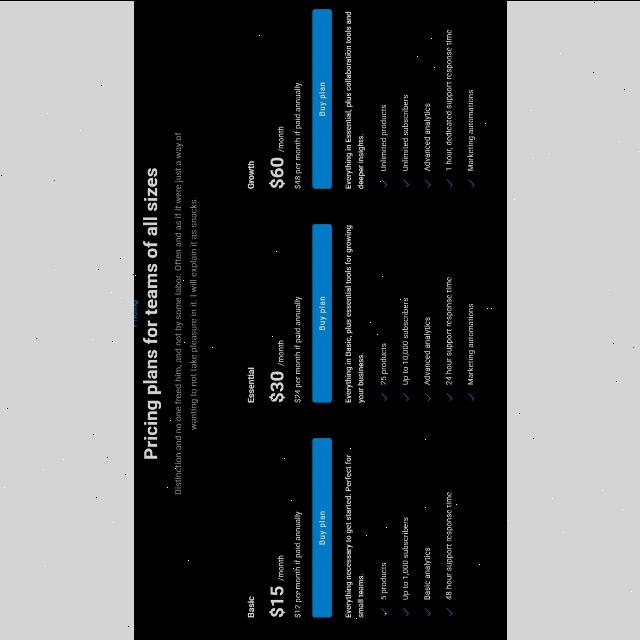QLabel: (142, 166, 160, 460), (342, 6, 364, 190), (172, 132, 182, 494), (344, 222, 364, 402), (344, 452, 364, 618), (188, 196, 198, 434), (443, 26, 452, 174), (291, 293, 301, 407), (292, 78, 302, 192), (292, 508, 302, 618), (444, 489, 452, 603), (444, 278, 452, 388), (399, 300, 408, 390), (466, 300, 474, 388), (400, 518, 408, 604), (466, 90, 474, 172), (378, 103, 387, 175), (400, 96, 408, 172), (422, 313, 430, 387), (422, 101, 430, 172), (268, 585, 284, 617), (268, 156, 284, 188), (268, 369, 284, 401), (422, 544, 430, 600), (316, 510, 328, 546), (316, 295, 328, 331), (379, 342, 387, 388), (318, 80, 327, 118), (379, 560, 387, 602), (246, 364, 254, 404), (246, 159, 254, 189), (276, 552, 284, 580), (276, 124, 284, 152), (276, 338, 284, 366), (246, 594, 254, 618), (133, 298, 137, 328)
VBtn: (310, 435, 332, 617), (310, 222, 332, 402), (312, 6, 332, 188)
VDivider: (229, 205, 497, 208), (230, 418, 496, 420)
VIcon: (422, 178, 430, 186), (444, 178, 452, 186), (380, 606, 386, 616), (445, 606, 451, 616), (402, 606, 408, 616), (423, 606, 429, 616), (379, 178, 386, 186), (467, 392, 473, 401), (445, 392, 451, 401), (424, 392, 430, 401), (402, 392, 408, 401), (402, 178, 408, 186), (467, 178, 473, 186), (380, 392, 386, 400)
